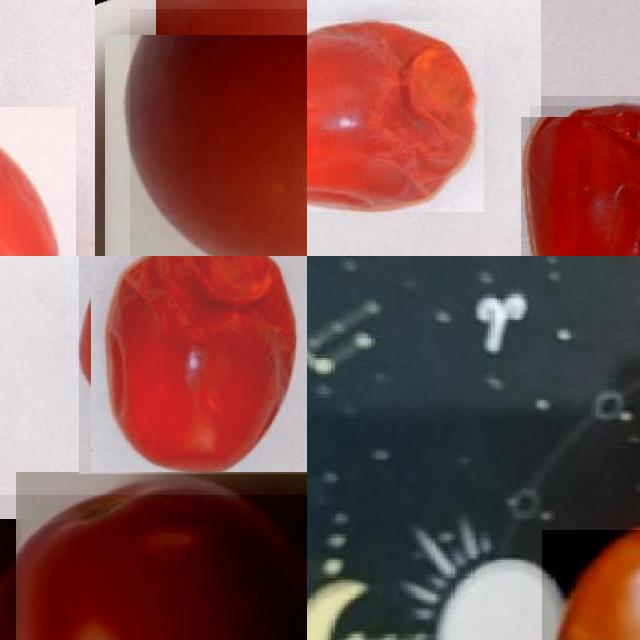Fresh Tomato: (0, 495, 307, 640), (130, 9, 307, 256)
Rotten Tomato: (79, 256, 307, 474), (307, 21, 484, 212), (530, 106, 640, 256), (0, 107, 76, 256)
